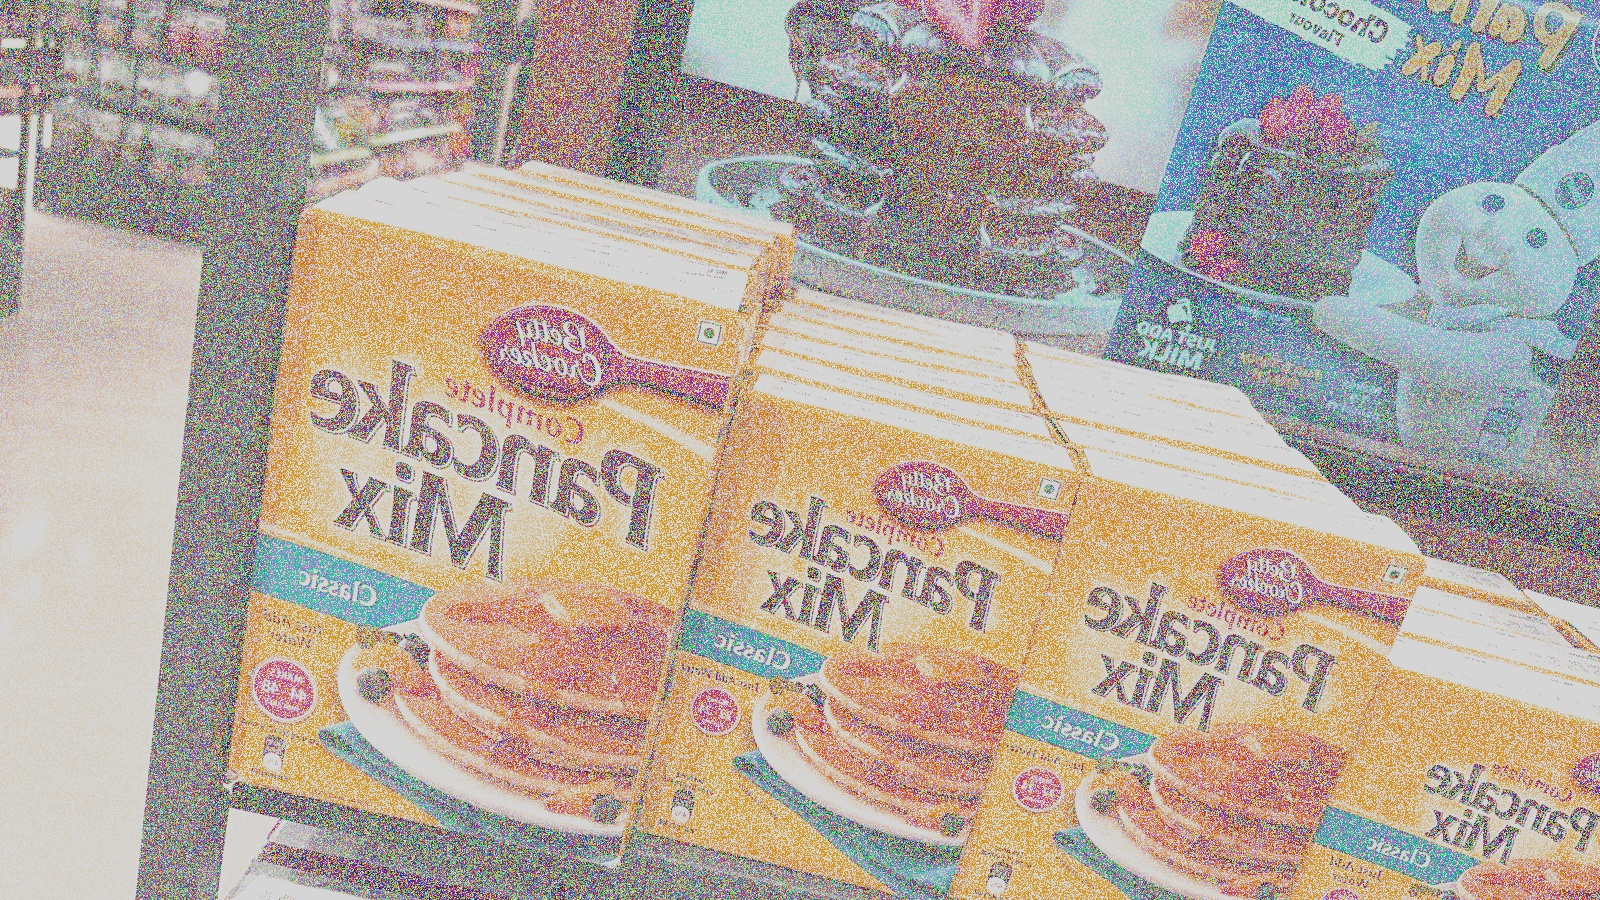Betty Crocker Pancake Mix: (205, 292, 758, 818), (593, 424, 1064, 900), (932, 504, 1412, 900), (1282, 684, 1600, 900)
